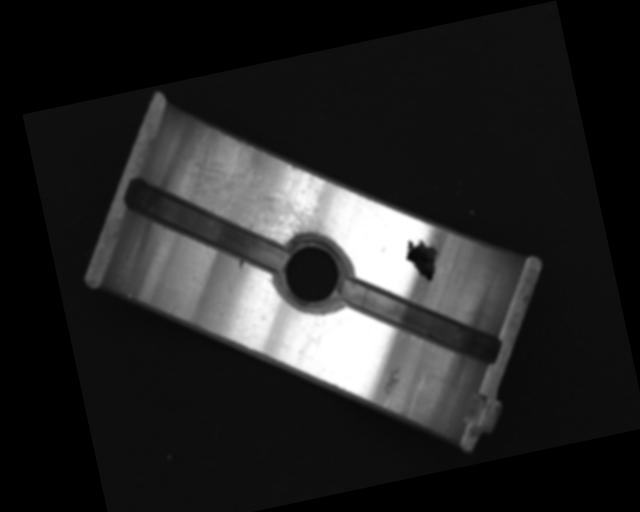blot: (402, 234, 445, 286)
bruise: (377, 362, 408, 396), (236, 257, 247, 271)
gap: (121, 152, 291, 299), (342, 253, 503, 389)
hole: (270, 231, 357, 316)
scratch: (173, 121, 332, 269)
